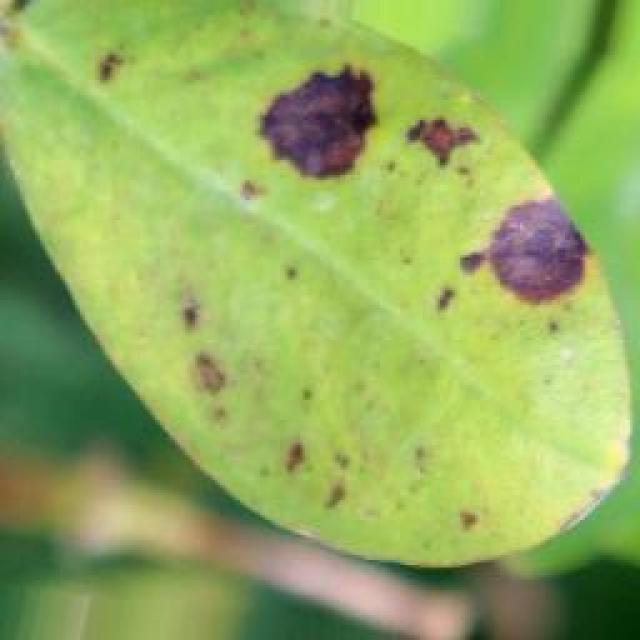Yellowish: (75, 0, 621, 568)
